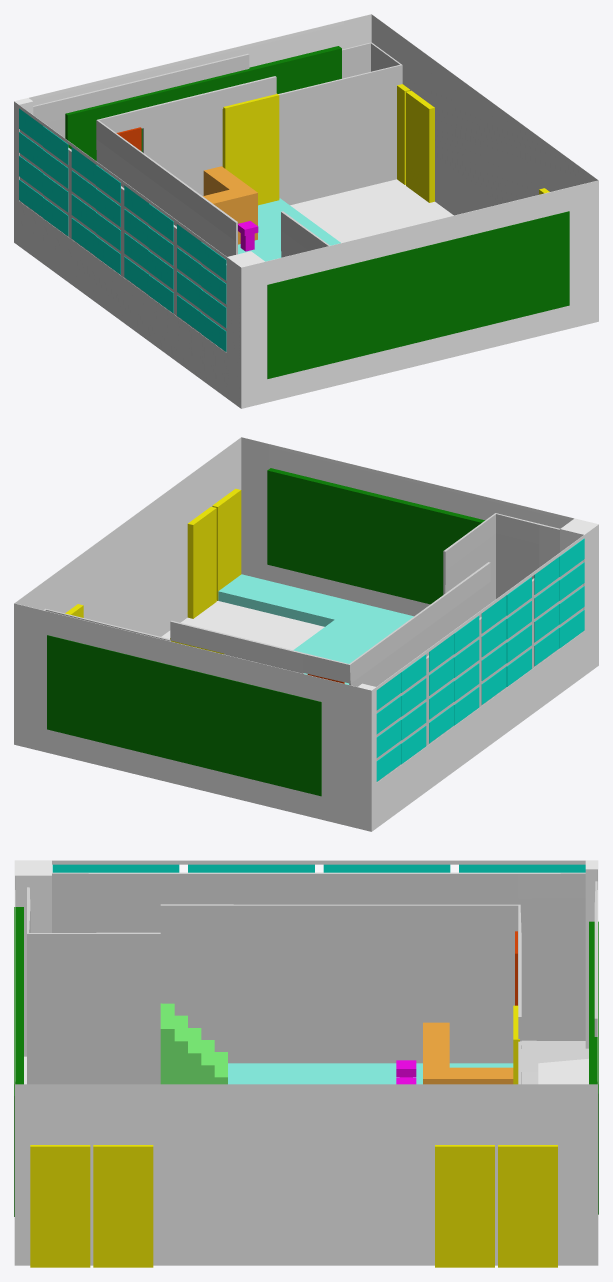
3 views of the same model, one above another, from view 1: azimuth 30°, elevation 25°; view 2: azimuth 150°, elevation 25°; view 3: azimuth 270°, elevation 25° (orthographic). The views are drawn at different scales.
Parts seen in each view (by area): view 1: Cube, 立方体.007, 立方体.003, 立方体.005, 立方体.004, 立方体.010, 立方体.002, 立方体.006, 平面.001, 平面, 立方体.001; view 2: Cube, 立方体.004, 立方体.007, 立方体.003, 立方体.005, 平面, 立方体.006, 立方体.002, 立方体.001, 立方体; view 3: 立方体.007, Cube, 立方体.006, 立方体.005, 平面, グリッド, 平面.001, 立方体.002, 立方体.003, 立方体.004, 立方体, 立方体.001.
Part boxes in pixels (x1=…): Cube: x1=14, y1=14, x2=598, y2=408; 立方体.007: x1=19, y1=42, x2=402, y2=352; 立方体.003: x1=267, y1=211, x2=569, y2=378; 立方体.005: x1=19, y1=108, x2=226, y2=351; 立方体.004: x1=65, y1=46, x2=341, y2=160; 立方体.010: x1=222, y1=93, x2=279, y2=205; 立方体.002: x1=226, y1=251, x2=265, y2=408; 立方体.006: x1=397, y1=84, x2=549, y2=202; 平面.001: x1=203, y1=166, x2=257, y2=244; 平面: x1=238, y1=198, x2=340, y2=261; 立方体.001: x1=14, y1=98, x2=33, y2=245; Cube: x1=14, y1=437, x2=598, y2=831; 立方体.004: x1=47, y1=635, x2=321, y2=796; 立方体.007: x1=44, y1=513, x2=583, y2=782; 立方体.003: x1=267, y1=468, x2=484, y2=604; 立方体.005: x1=376, y1=538, x2=584, y2=781; 平面: x1=218, y1=574, x2=413, y2=684; 立方体.006: x1=65, y1=488, x2=241, y2=618; 立方体.002: x1=560, y1=518, x2=598, y2=675; 立方体.001: x1=357, y1=683, x2=376, y2=831; 立方体: x1=42, y1=745, x2=329, y2=819; 立方体.007: x1=27, y1=872, x2=597, y2=1084; Cube: x1=14, y1=860, x2=598, y2=1265; 立方体.006: x1=30, y1=1145, x2=557, y2=1267; 立方体.005: x1=52, y1=864, x2=585, y2=872; 平面: x1=228, y1=1063, x2=513, y2=1084; グリッド: x1=161, y1=1003, x2=227, y2=1084; 平面.001: x1=423, y1=1022, x2=513, y2=1084; 立方体.002: x1=14, y1=860, x2=51, y2=1056; 立方体.003: x1=14, y1=907, x2=23, y2=1216; 立方体.004: x1=589, y1=921, x2=598, y2=1214; 立方体: x1=538, y1=1058, x2=588, y2=1084; 立方体.001: x1=585, y1=860, x2=598, y2=1048.
Bounding box in the file's own units: 8.03 × 3.05 × 8.77.
